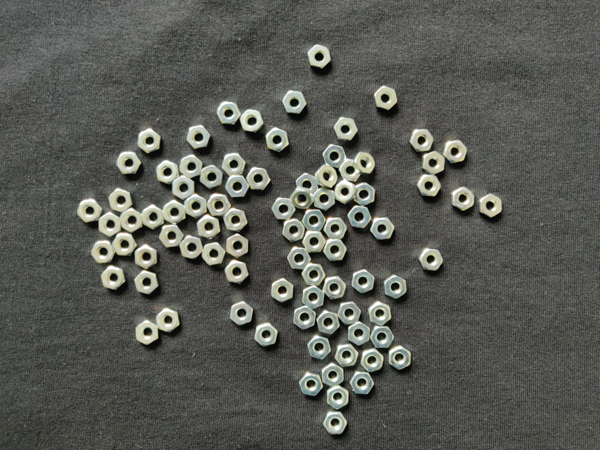nut: (101, 265, 126, 291), (77, 199, 103, 223), (134, 244, 158, 270), (156, 308, 180, 333), (134, 271, 159, 295), (179, 155, 203, 180), (187, 125, 211, 150), (200, 165, 224, 190), (217, 101, 242, 125), (197, 215, 221, 240), (221, 153, 246, 177), (223, 209, 248, 233), (230, 301, 254, 326), (322, 145, 347, 169), (360, 348, 384, 373), (443, 140, 468, 164), (99, 212, 122, 238), (138, 128, 161, 154), (172, 175, 195, 201), (479, 194, 502, 220), (92, 240, 116, 264), (135, 321, 159, 345), (225, 260, 249, 284), (247, 167, 271, 191), (334, 117, 358, 141), (307, 336, 331, 360), (323, 276, 347, 300), (335, 344, 359, 368), (112, 233, 137, 256), (159, 225, 184, 248), (163, 200, 186, 225), (184, 194, 207, 219), (202, 243, 227, 266), (225, 175, 250, 198), (240, 110, 265, 133), (266, 128, 289, 153), (282, 91, 307, 114), (271, 198, 296, 221), (290, 187, 315, 210), (315, 164, 338, 189), (375, 86, 398, 111), (323, 412, 348, 435), (370, 326, 395, 349), (369, 302, 392, 327), (384, 275, 407, 300), (370, 218, 395, 241), (409, 129, 434, 152), (452, 187, 475, 212), (116, 152, 142, 174), (109, 189, 133, 212), (156, 161, 180, 184), (180, 235, 203, 259), (208, 194, 232, 217), (308, 45, 331, 69), (255, 323, 278, 347), (282, 219, 305, 243), (300, 373, 323, 397), (317, 311, 340, 335), (350, 372, 374, 395), (338, 302, 362, 325), (352, 270, 375, 294), (348, 206, 372, 229), (422, 151, 445, 175), (121, 208, 143, 233), (142, 205, 164, 230), (227, 234, 249, 259), (272, 278, 294, 303), (287, 248, 312, 270), (322, 363, 344, 388), (335, 180, 357, 205), (417, 175, 442, 197), (302, 210, 326, 232), (314, 187, 336, 211), (327, 386, 349, 410), (294, 306, 316, 330), (302, 265, 326, 287), (302, 286, 324, 310), (323, 239, 347, 261), (348, 322, 370, 346), (389, 346, 411, 370), (419, 249, 443, 271), (296, 173, 319, 195), (339, 159, 361, 182), (353, 152, 375, 175), (303, 232, 327, 253), (324, 218, 347, 239), (354, 183, 375, 206)
